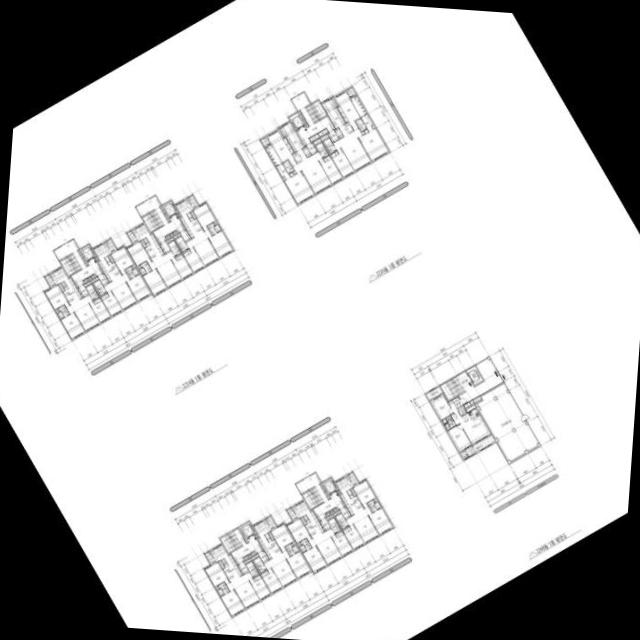background: (0, 0, 640, 640)
space_balconi: (465, 434, 495, 456), (426, 386, 443, 399)
space_bedroom: (266, 130, 297, 165), (358, 128, 389, 161), (335, 90, 360, 130), (284, 171, 314, 204), (330, 148, 354, 177), (319, 154, 343, 183), (368, 507, 393, 534), (208, 230, 233, 257), (142, 268, 167, 295), (286, 551, 311, 578), (220, 589, 245, 616), (60, 312, 85, 339), (126, 274, 151, 301), (302, 545, 327, 572), (111, 245, 134, 274), (448, 423, 471, 451), (271, 523, 294, 551), (353, 479, 376, 507), (193, 202, 216, 230), (44, 284, 69, 309), (126, 241, 151, 265), (286, 518, 311, 542), (204, 562, 229, 586), (430, 394, 453, 419), (331, 530, 353, 556), (171, 253, 193, 278), (249, 574, 271, 599), (89, 297, 111, 322), (261, 567, 282, 593), (183, 247, 204, 272), (101, 290, 122, 315), (343, 524, 364, 549)
space_dressroom: (265, 144, 282, 165), (350, 95, 367, 116), (276, 163, 290, 179), (361, 113, 373, 131)
space_elevator: (466, 365, 483, 385), (289, 112, 305, 130), (80, 244, 96, 261), (240, 521, 256, 538), (162, 200, 178, 217), (322, 478, 338, 494)
space_elevator_hall: (136, 195, 184, 242), (296, 472, 344, 519), (54, 239, 102, 286), (291, 92, 334, 144), (457, 358, 503, 404), (231, 528, 262, 563)
space_front: (448, 396, 463, 407), (327, 129, 339, 142), (306, 141, 318, 154), (98, 272, 109, 285), (237, 561, 248, 574), (258, 549, 269, 562), (319, 517, 330, 530), (159, 240, 170, 253), (77, 284, 88, 297), (340, 506, 351, 518), (180, 229, 191, 241)
space_kitchen: (131, 222, 164, 261), (209, 543, 242, 582), (49, 266, 82, 305), (321, 96, 353, 136), (291, 500, 324, 538), (278, 121, 307, 163), (335, 475, 364, 515), (93, 241, 122, 281), (175, 197, 204, 237), (253, 518, 282, 558), (461, 408, 484, 428)
space_living_room: (449, 402, 490, 444), (293, 151, 332, 193), (333, 128, 371, 170), (148, 250, 182, 287), (226, 571, 260, 608), (345, 506, 379, 543), (66, 294, 100, 331), (185, 229, 219, 265), (308, 528, 342, 564), (263, 550, 297, 586), (103, 273, 137, 309)
space_other: (475, 382, 538, 461), (442, 416, 456, 429), (160, 206, 170, 221), (320, 483, 330, 498), (238, 527, 247, 542), (78, 250, 87, 264), (302, 145, 311, 157), (457, 405, 467, 415), (334, 127, 343, 138), (318, 128, 328, 136), (309, 133, 319, 141), (460, 450, 468, 459), (466, 404, 476, 411), (320, 133, 329, 140), (313, 137, 321, 144), (333, 97, 339, 106), (278, 129, 284, 137), (173, 232, 181, 238), (333, 509, 341, 515), (473, 396, 481, 402), (350, 488, 356, 496), (108, 254, 114, 262), (268, 532, 274, 539), (244, 557, 251, 563), (326, 514, 333, 520), (190, 211, 196, 218), (91, 276, 98, 282), (84, 280, 91, 286), (251, 553, 258, 559), (301, 516, 306, 524), (219, 560, 224, 568), (59, 283, 64, 291), (141, 239, 146, 247), (303, 118, 308, 126), (299, 110, 304, 118), (166, 237, 173, 242), (464, 402, 470, 407), (469, 400, 474, 404), (325, 511, 330, 515), (165, 234, 170, 238), (292, 170, 296, 174), (361, 130, 365, 134), (173, 230, 177, 234), (329, 509, 333, 513), (292, 541, 296, 545), (243, 555, 247, 559), (333, 507, 337, 511), (374, 497, 378, 501), (214, 220, 218, 224), (169, 232, 173, 236), (83, 278, 87, 282), (247, 553, 251, 557), (251, 551, 255, 554), (215, 585, 218, 589), (297, 542, 300, 546), (87, 276, 91, 279), (372, 124, 375, 128), (132, 264, 136, 267), (55, 308, 58, 312), (91, 274, 95, 277), (282, 176, 285, 180), (137, 265, 140, 268), (337, 490, 339, 493), (95, 257, 97, 259), (177, 213, 179, 215), (255, 534, 257, 536)
space_outdoor_room: (106, 238, 116, 251), (266, 515, 276, 528), (287, 507, 297, 520), (205, 551, 215, 564), (45, 274, 55, 287), (127, 230, 137, 243), (348, 472, 358, 485), (188, 195, 198, 207), (260, 136, 270, 147), (346, 87, 356, 97)
space_staircase: (440, 376, 465, 399), (60, 253, 81, 275), (305, 100, 326, 122), (142, 210, 163, 231), (220, 531, 241, 552), (302, 487, 323, 508)
space_toilet: (315, 142, 329, 157), (323, 137, 336, 153), (253, 556, 266, 572), (175, 235, 188, 251), (93, 279, 106, 295), (335, 513, 348, 528), (245, 561, 258, 576), (85, 284, 98, 299), (328, 517, 340, 533), (168, 240, 180, 255), (57, 304, 69, 316), (217, 582, 229, 593), (367, 499, 377, 512), (125, 265, 135, 278), (300, 538, 311, 549), (140, 261, 151, 272), (285, 543, 295, 555), (207, 222, 217, 234), (355, 117, 364, 126), (282, 159, 291, 168), (285, 164, 294, 173), (358, 122, 367, 131), (299, 544, 306, 552), (57, 310, 64, 318), (217, 588, 224, 595), (139, 267, 146, 274), (214, 224, 220, 232), (374, 501, 380, 509), (132, 268, 138, 275), (292, 545, 298, 552)
